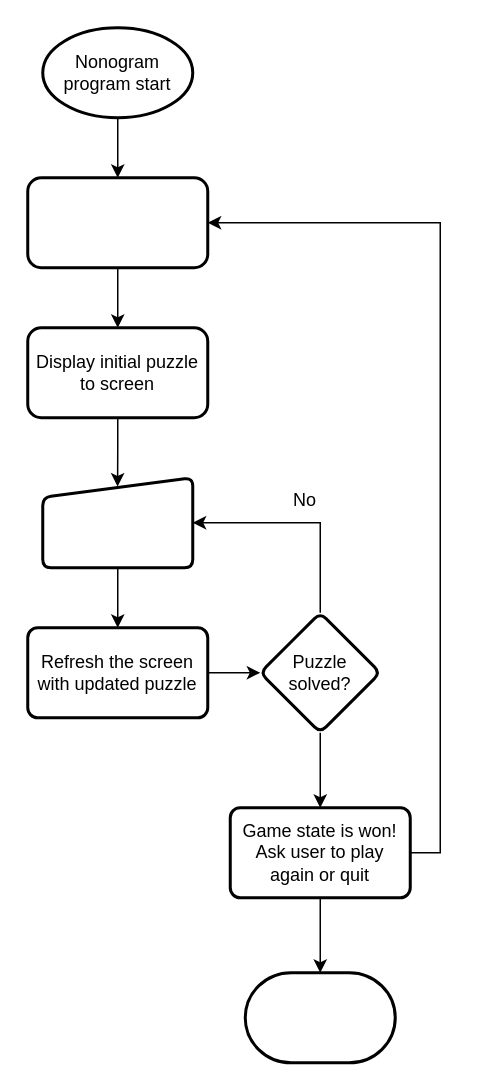
Some shapes in this 479 by 1089 pixel diagram are drawn without their labels. Here are the shapes that lost their labels. From the top down, the box of each, then its label:
(26, 176, 208, 268): Generate a nonogram puzzle
(40, 476, 194, 568): User inputs a space in the puzzle
(243, 970, 396, 1064): End
